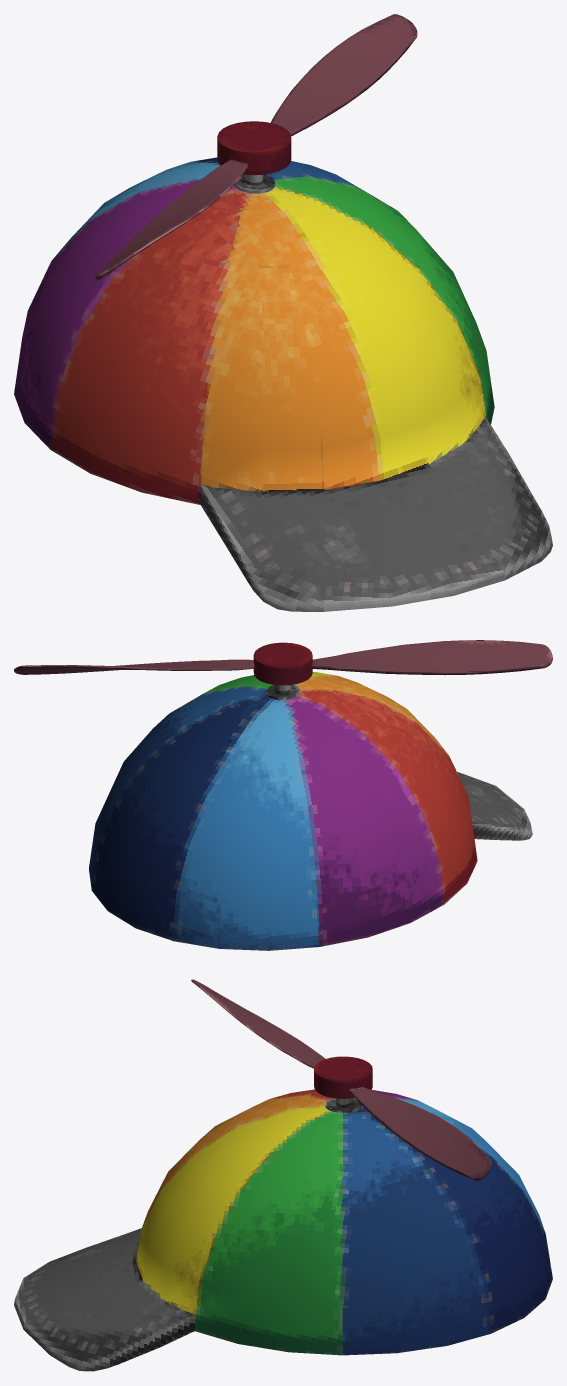
The model's file is wear_propeller.glb.
3 renders of one model, top to bottom at view 1: azimuth 30°, elevation 25°; view 2: azimuth 150°, elevation 25°; view 3: azimuth 270°, elevation 25°, orthographic. The views are drawn at different scales.
Parts seen in each view (by area): view 1: mesh; view 2: mesh; view 3: mesh.
Part boxes in pixels (<box>): mesh: <box>14,14,552,611</box>; mesh: <box>14,640,552,950</box>; mesh: <box>14,979,552,1371</box>.
Bounding box in the file's own units: 0.3242 × 0.2 × 0.3858.
1 material, 1 textured.
